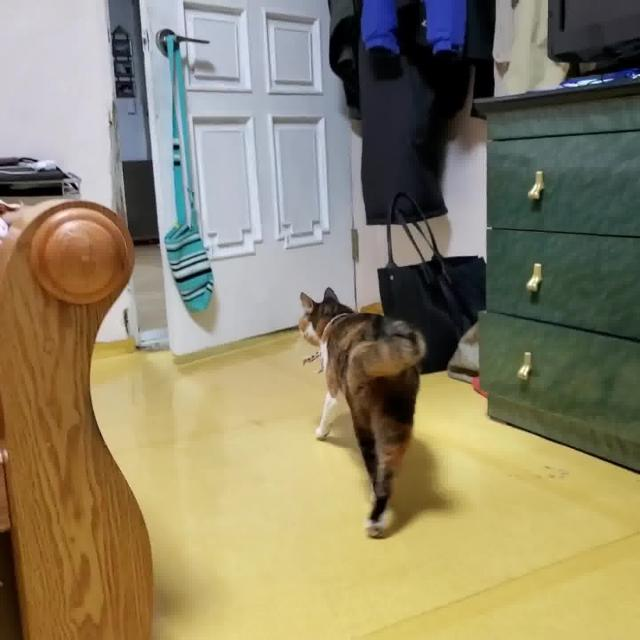cat: (294, 286, 428, 539)
